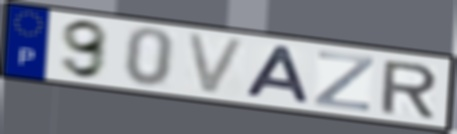0: (119, 25, 180, 90)
9: (56, 19, 112, 80)
A: (242, 43, 313, 107)
R: (378, 59, 441, 120)
V: (183, 30, 250, 97)
Z: (311, 49, 378, 114)
